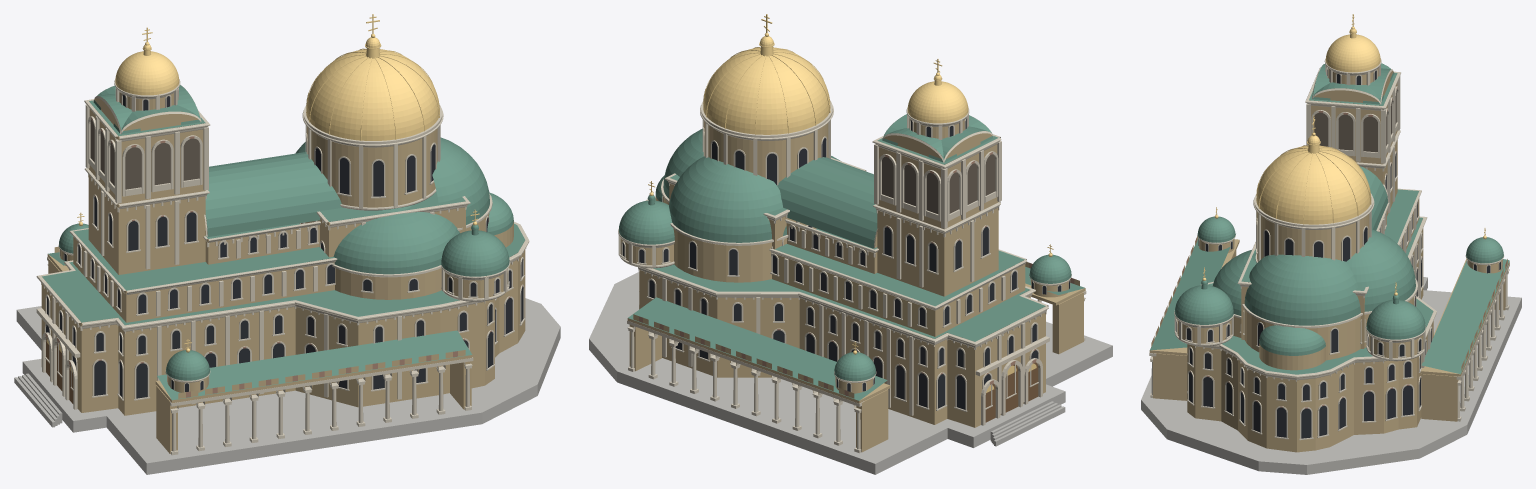
File: nevsky.glb
The picture shows the model from 3 angles, left to right: view 1: azimuth 30°, elevation 25°; view 2: azimuth 150°, elevation 25°; view 3: azimuth 270°, elevation 25°; orthographic projection. The views are drawn at different scales.
Parts seen in each view (by area): view 1: nevsky; view 2: nevsky; view 3: nevsky.
Part boxes in pixels (x1,y1,x2,y2): nevsky: (14,14,560,474); nevsky: (589,14,1112,474); nevsky: (1141,14,1521,474).
Bounding box in the file's own units: 78.06 × 55.4 × 62.27.
